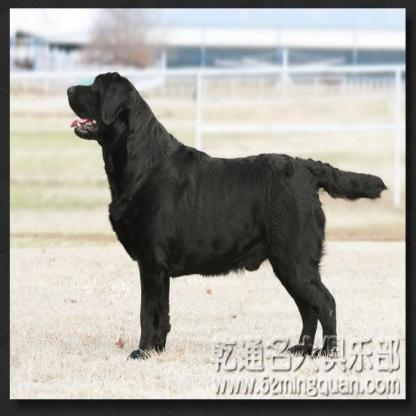Labarador Retriever: (64, 72, 386, 346)
